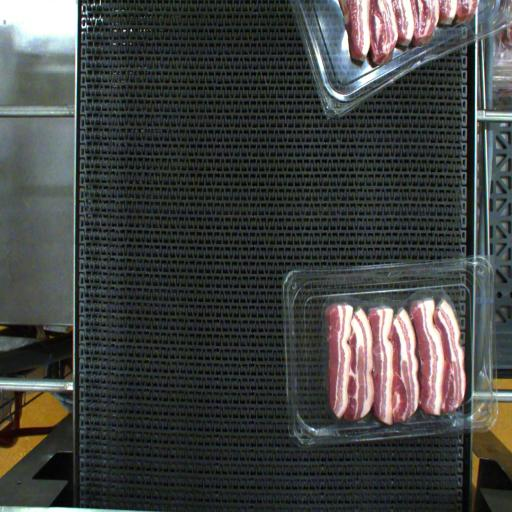unsealed: (324, 295, 472, 430)
